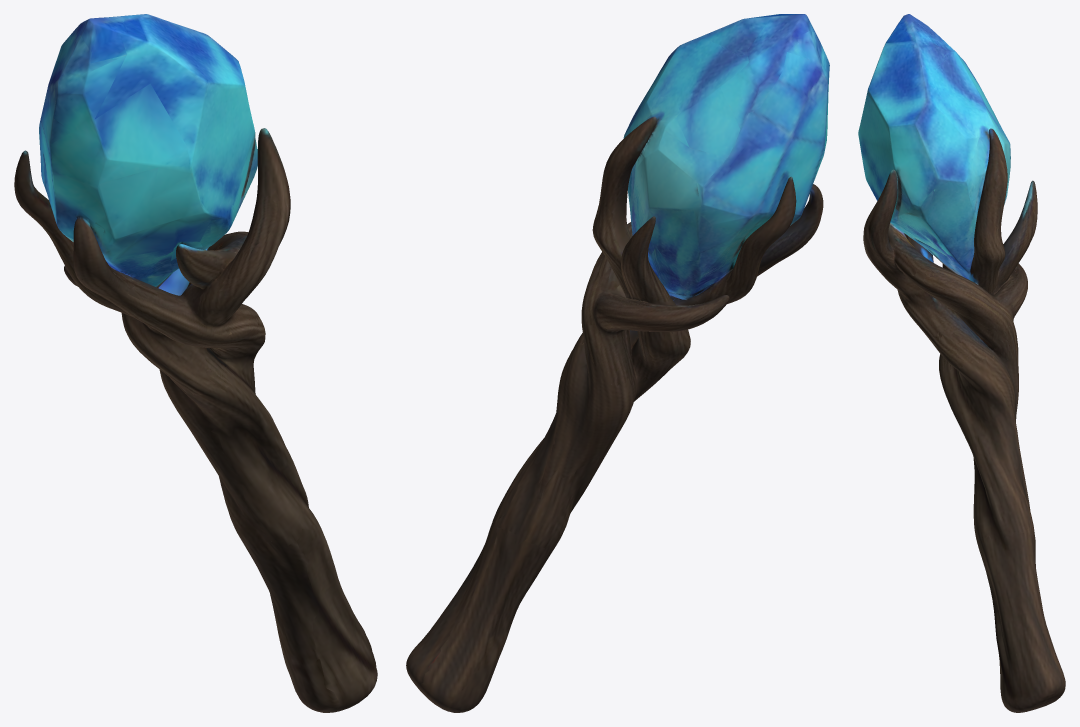
File: Item_V07.fbx
3 views of the same model, side by side, from view 1: azimuth 30°, elevation 25°; view 2: azimuth 150°, elevation 25°; view 3: azimuth 270°, elevation 25° (orthographic). The views are drawn at different scales.
Parts seen in each view (by area): view 1: Body_V07; view 2: Body_V07; view 3: Body_V07.
Part boxes in pixels (x1=…): Body_V07: x1=14, y1=14, x2=377, y2=712; Body_V07: x1=406, y1=14, x2=829, y2=712; Body_V07: x1=858, y1=14, x2=1065, y2=712.
Size of the model in its own units: 0.127 by 0.25 by 0.0802.
